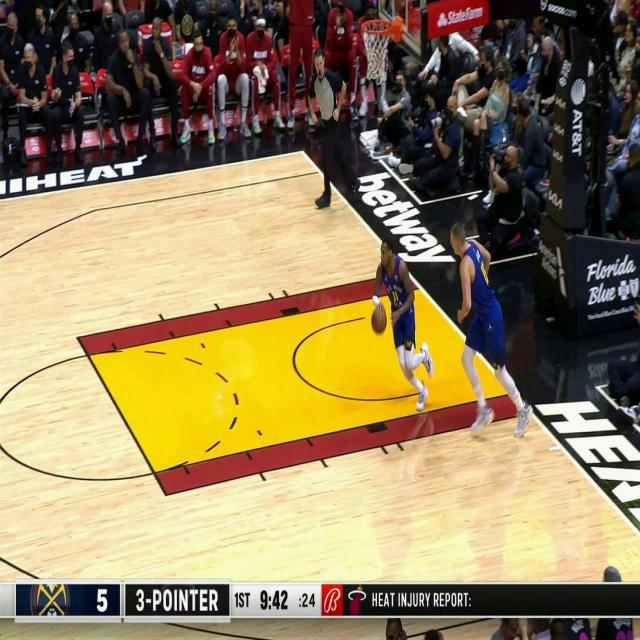rim: (370, 304, 387, 334)
